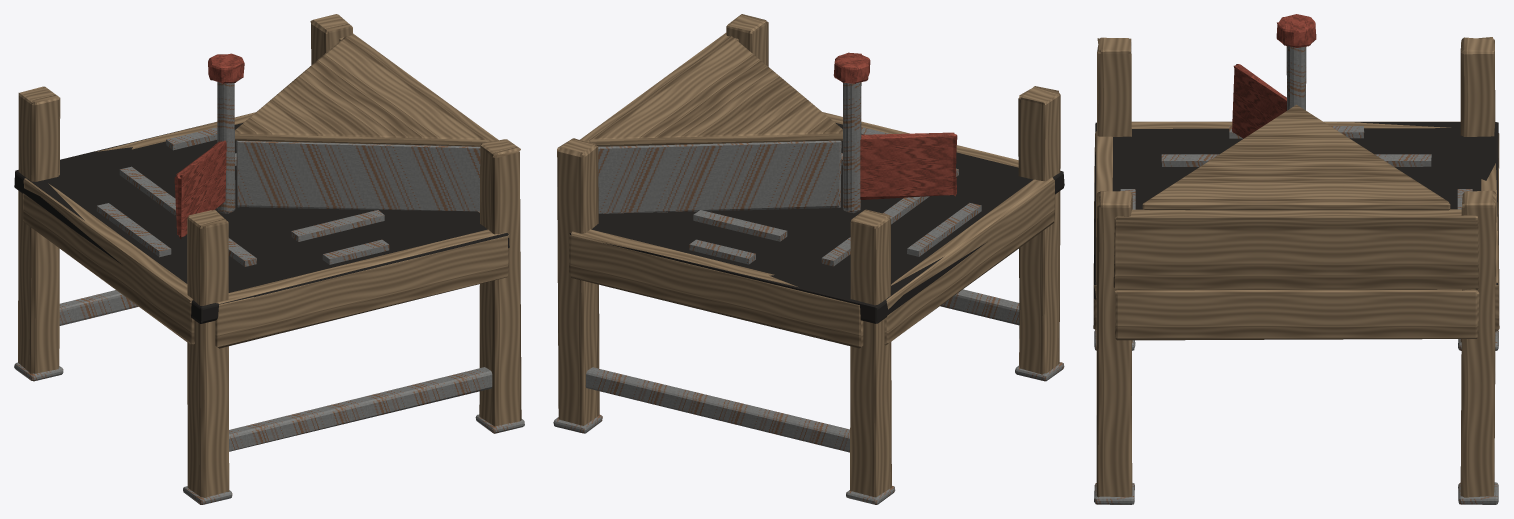
The model's file is splitter.glb.
3 renders of one model, left to right at view 1: azimuth 30°, elevation 25°; view 2: azimuth 150°, elevation 25°; view 3: azimuth 270°, elevation 25°, orthographic. The views are drawn at different scales.
Parts seen in each view (by area): view 1: Splitter; view 2: Splitter; view 3: Splitter.
Boxes of the visible parts, box(x1,y1,x2,y2) form: Splitter: box(14, 14, 524, 504); Splitter: box(553, 14, 1064, 504); Splitter: box(1093, 14, 1499, 504).
Size of the model in its own units: 1.69 by 1.73 by 1.69.
4 materials, 3 textured.
